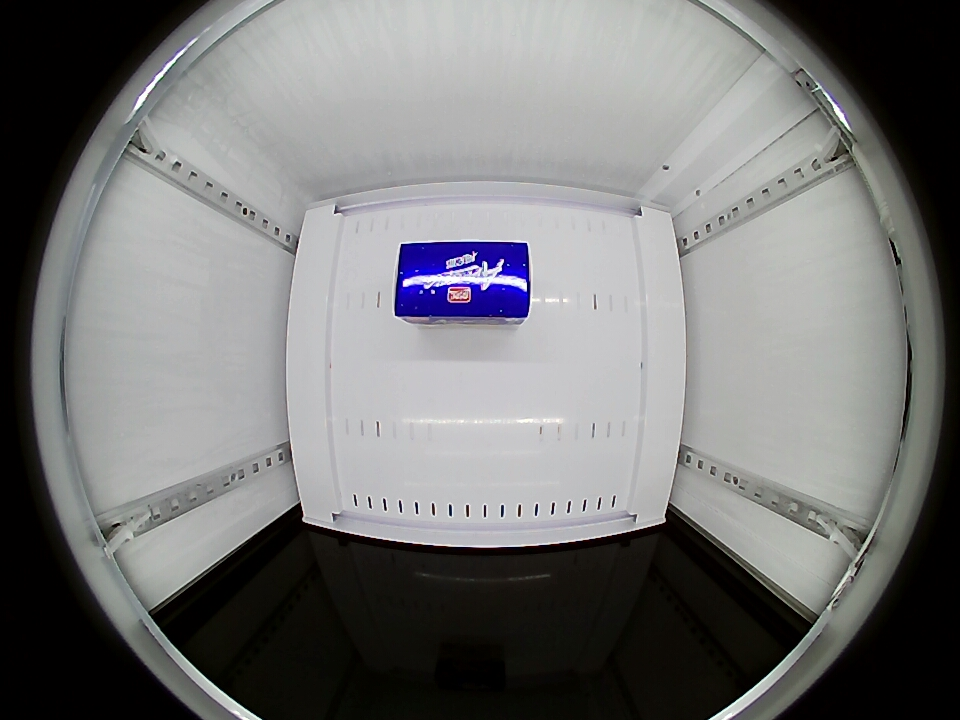meiniye: (393, 241, 532, 325)
